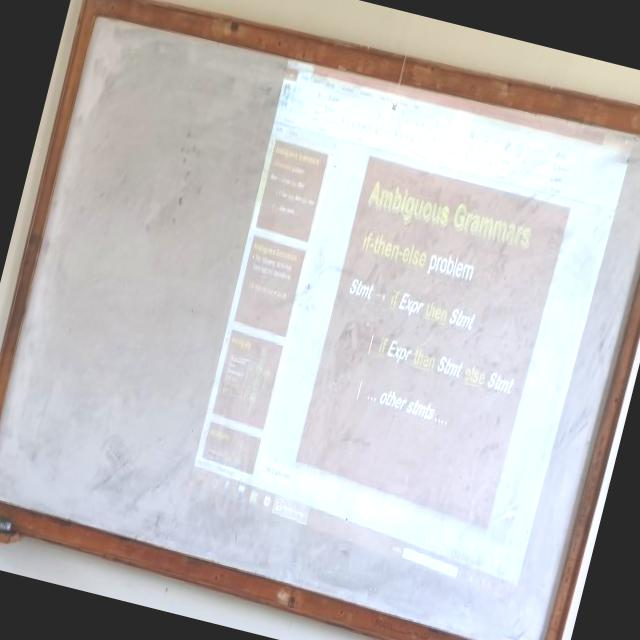Slide: (184, 46, 630, 615)
White-board: (0, 3, 640, 640)
